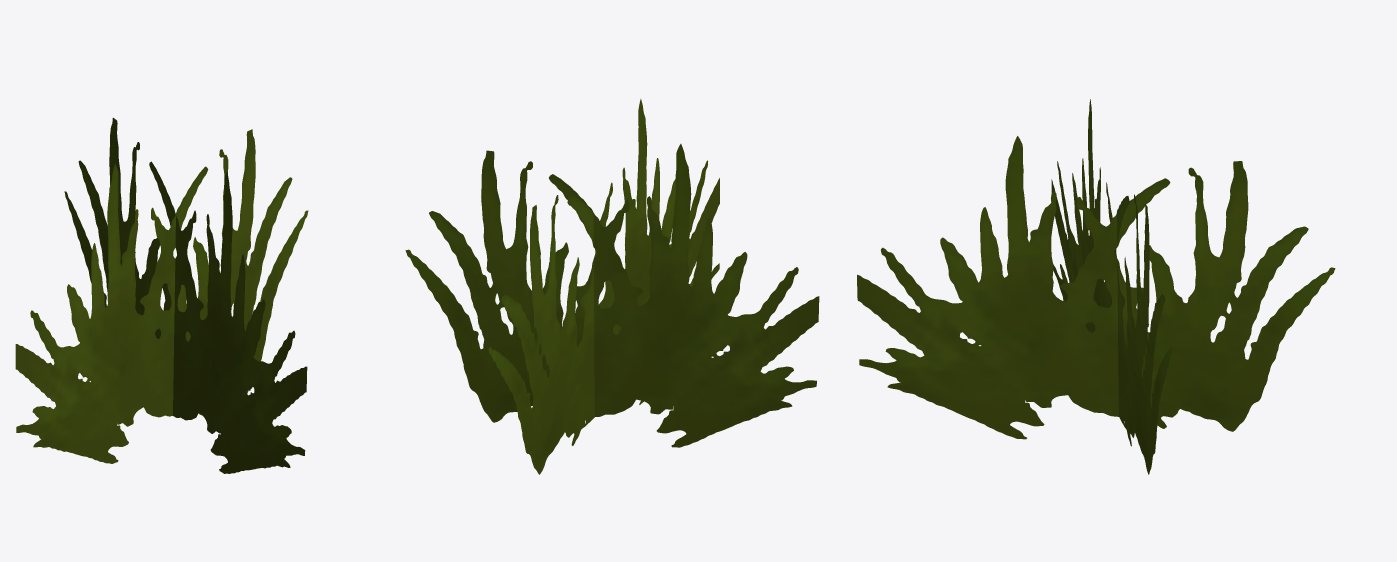
The model's file is KL_cao9.fbx.
The picture shows the model from 3 angles, left to right: view 1: azimuth 30°, elevation 25°; view 2: azimuth 150°, elevation 25°; view 3: azimuth 270°, elevation 25°; orthographic projection.
Parts seen in each view (by area): view 1: polySurface1877; view 2: polySurface1877; view 3: polySurface1877.
Part boxes in pixels (x1=…): polySurface1877: x1=15, y1=117, x2=308, y2=473; polySurface1877: x1=405, y1=99, x2=819, y2=474; polySurface1877: x1=857, y1=99, x2=1335, y2=474.
Size of the model in its own units: 0.8861 by 0.7588 by 1.03.
